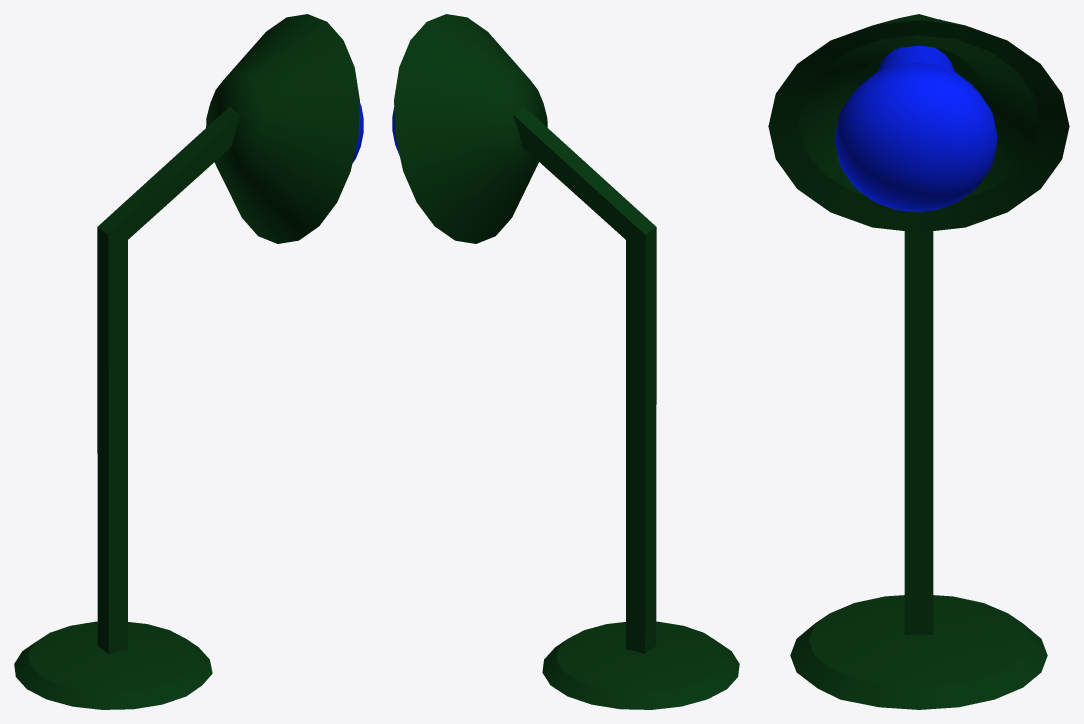
Rendered from Lamp Remodel.obj.
3 renders of one model, left to right at view 1: azimuth 30°, elevation 25°; view 2: azimuth 150°, elevation 25°; view 3: azimuth 270°, elevation 25°, orthographic. The views are drawn at different scales.
Visible parts, largest first — view 1: lightbulb lamp, lightbulb lamp lamp_stand_1 lamp_stand_2, lightbulb lamp lamp_stand_1 lamp_stand_2 base, lightbulb lamp lamp_stand_1; view 2: lightbulb lamp, lightbulb lamp lamp_stand_1 lamp_stand_2, lightbulb lamp lamp_stand_1 lamp_stand_2 base, lightbulb lamp lamp_stand_1; view 3: lightbulb lamp, lightbulb lamp lamp_stand_1 lamp_stand_2 base, lightbulb, lightbulb lamp lamp_stand_1 lamp_stand_2.
Part boxes in pixels (x1,y1,x2,y2): lightbulb lamp: [206, 14, 359, 243]; lightbulb lamp lamp_stand_1 lamp_stand_2: [97, 227, 127, 653]; lightbulb lamp lamp_stand_1 lamp_stand_2 base: [14, 621, 212, 709]; lightbulb lamp lamp_stand_1: [97, 106, 240, 247]; lightbulb lamp: [394, 14, 547, 243]; lightbulb lamp lamp_stand_1 lamp_stand_2: [626, 227, 656, 653]; lightbulb lamp lamp_stand_1 lamp_stand_2 base: [542, 621, 739, 709]; lightbulb lamp lamp_stand_1: [513, 106, 656, 248]; lightbulb lamp: [768, 14, 1069, 232]; lightbulb lamp lamp_stand_1 lamp_stand_2 base: [790, 595, 1047, 709]; lightbulb: [835, 45, 997, 212]; lightbulb lamp lamp_stand_1 lamp_stand_2: [904, 231, 933, 634].
Bounding box in the file's own units: 6.82 × 11.89 × 4.2.
